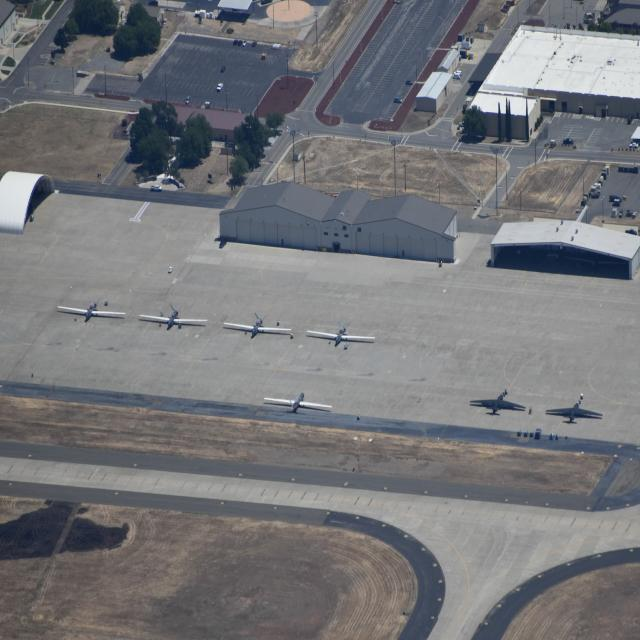MIL_Plane: (223, 312, 292, 337), (139, 304, 208, 328), (307, 321, 375, 345), (57, 297, 126, 320), (264, 392, 332, 410), (470, 398, 526, 408), (546, 408, 602, 417)
